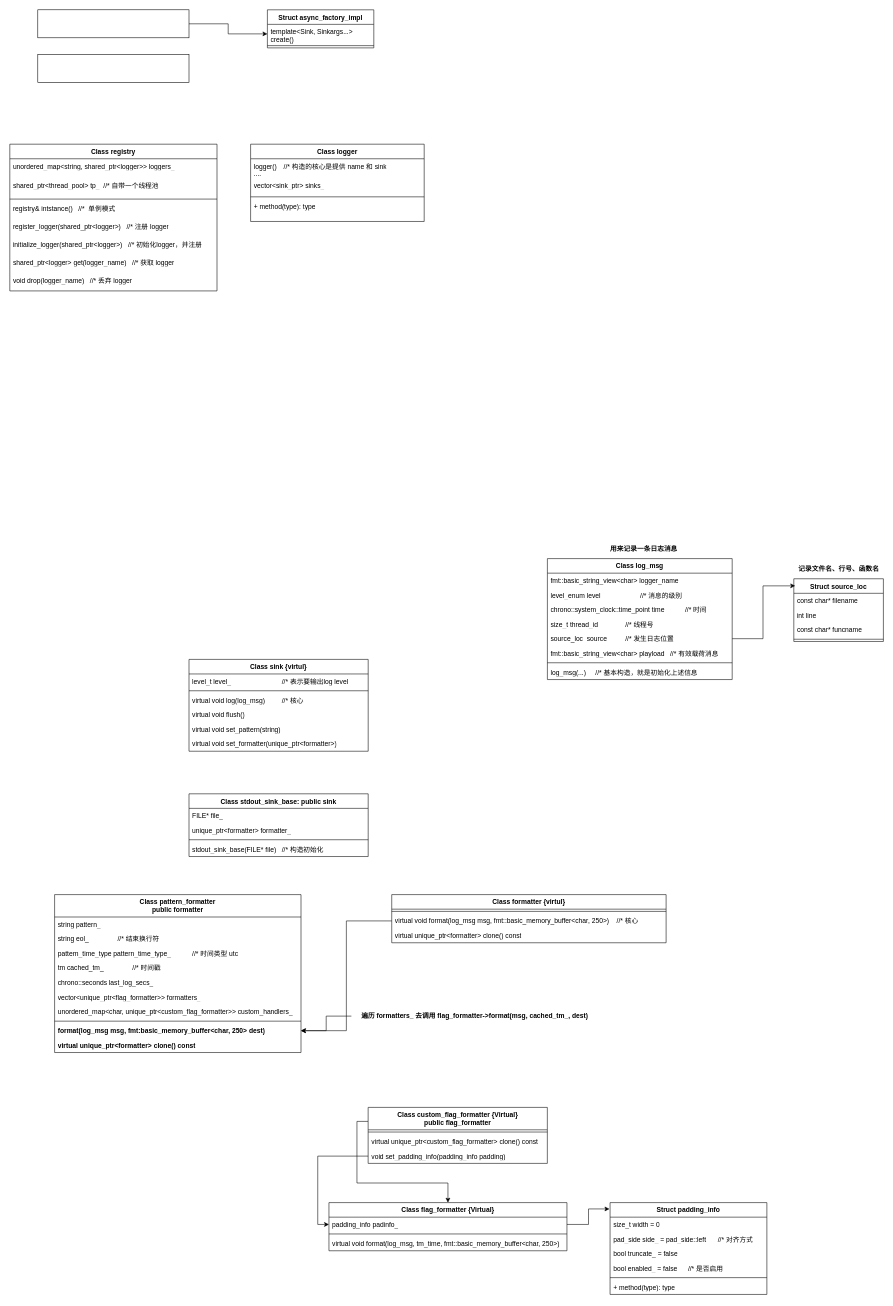
The diagram is 893 pixels wide and 1306 high, and some of its shapes have lost their labels. The centre of each missing label's shape, as x and y in pixels:
Template< Factory > shared_ptr<logger> basic_logger_mt(...): pixel 113 23
Template< Factory > shared_ptr<logger> basic_logger_st(...): pixel 113 68
